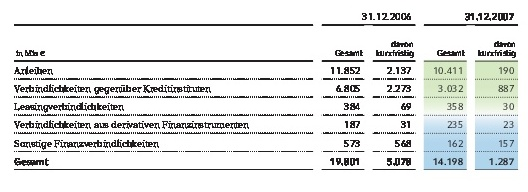table: (0, 0, 528, 192)
